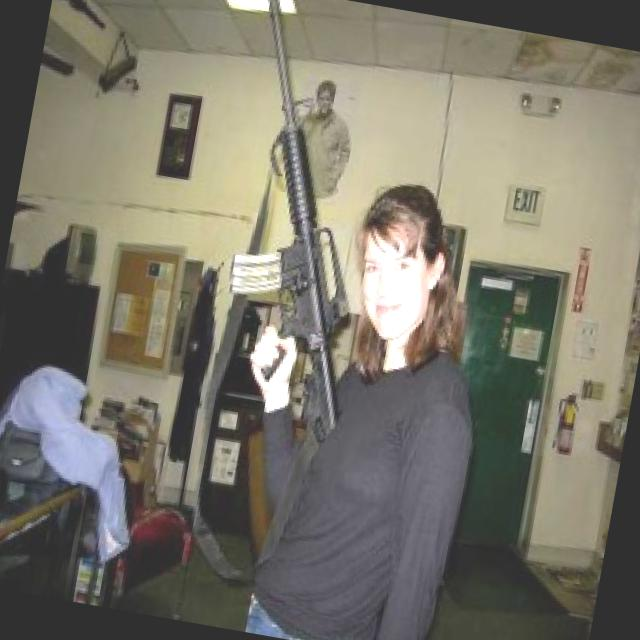long weapon: (143, 0, 405, 487)
